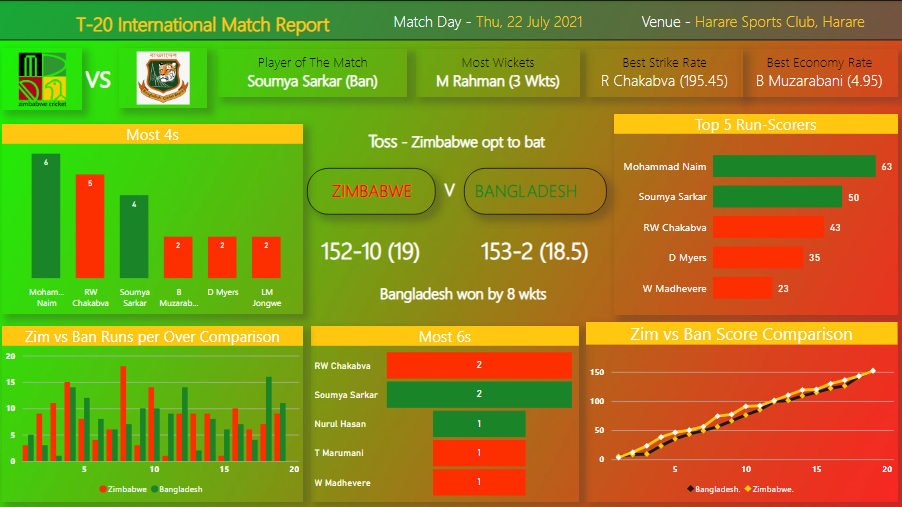

This screenshot's page, from the dashboard's own definition file:
{"tool":"powerbi","page":{"name":"Assignment","canvas":[1280,720],"ordinal":0},"visuals":[{"type":"clusteredBarChart","title":"Top 5 Run-Scorers","fields":{"Category":["Top 5 Runs scorers.Batter"],"Y":["Top 5 Runs scorers.Runs"]},"box":[869.4,161,401.9,284.7],"z":0},{"type":"columnChart","title":"Most 4s","fields":{"Category":["Top fours.Batters"],"Y":["Top fours.Fours"]},"box":[3.9,176.5,426.3,269.2],"z":1000},{"type":"funnel","title":"Most 6s","fields":{"Category":["Top sixes.Batters"],"Y":["Top sixes.Sixes"]},"box":[441.3,461.1,379.1,249],"z":2000},{"type":"image","box":[170,68.3,123.6,85],"z":3000},{"type":"image","box":[3.9,68.3,113.3,87.6],"z":4000},{"type":"textbox","box":[117.4,72.1,69.3,83.5],"z":5000},{"type":"lineChart","title":"Zim vs Ban Score Comparison","fields":{"Category":["bat_zim.overs count"],"Y":["bat_zim.cum ban","bat_zim.cum runs zim"]},"box":[830.8,456,440.5,253.7],"z":6000},{"type":"clusteredColumnChart","title":"Zim vs Ban Runs per Over Comparison","fields":{"Category":["bat_zim.overs count"],"Y":["bat_zim.total runs zim","ban_bat.Total runs ban"]},"box":[4.2,461.1,425.8,249],"z":7000},{"type":"textbox","box":[310.4,69.6,267.9,68.3],"z":8000},{"type":"textbox","box":[589.9,69.3,232,67.9],"z":9000},{"type":"textbox","box":[830.3,69.3,222.1,67.9],"z":10000},{"type":"textbox","box":[1049.7,69.6,221.5,68.3],"z":11000},{"type":"textbox","box":[0,0,1280.2,56.6],"z":12000},{"type":"textbox","box":[60.5,10.3,446.9,46.4],"z":13000},{"type":"textbox","box":[533.3,9.9,316.9,46.7],"z":14000},{"type":"textbox","box":[903.9,9.9,353.6,46.7],"z":15000},{"type":"textbox","box":[435.3,238.3,181.6,65.7],"z":16000},{"type":"textbox","box":[658.2,238.3,202.2,65.7],"z":17000},{"type":"textbox","box":[427.6,327.2,197.1,65.7],"z":18000},{"type":"textbox","box":[654.3,327.2,206.1,65.7],"z":19000},{"type":"textbox","box":[434.1,176.5,426.3,45.1],"z":20000},{"type":"textbox","box":[444.4,394.1,425,51.5],"z":21000},{"type":"textbox","box":[617,246,41.2,51.5],"z":22000}]}

Visuals, with their boxes in screenshot pixels (x1, y1, x2, y2), scaled from the page's 1280x720 canvas onto the 902x507 screenshot:
"Top 5 Run-Scorers" clusteredBarChart: [613, 113, 896, 314]
"Most 4s" columnChart: [3, 124, 303, 314]
"Most 6s" funnel: [311, 325, 578, 500]
image: [120, 48, 207, 108]
image: [3, 48, 83, 110]
textbox: [83, 51, 132, 110]
"Zim vs Ban Score Comparison" lineChart: [585, 321, 896, 500]
"Zim vs Ban Runs per Over Comparison" clusteredColumnChart: [3, 325, 303, 500]
textbox: [219, 49, 408, 97]
textbox: [416, 49, 579, 97]
textbox: [585, 49, 742, 97]
textbox: [740, 49, 896, 97]
textbox: [0, 0, 901, 40]
textbox: [43, 7, 358, 40]
textbox: [376, 7, 599, 40]
textbox: [637, 7, 886, 40]
textbox: [307, 168, 435, 214]
textbox: [464, 168, 606, 214]
textbox: [301, 230, 440, 277]
textbox: [461, 230, 606, 277]
textbox: [306, 124, 606, 156]
textbox: [313, 278, 613, 314]
textbox: [435, 173, 464, 209]
